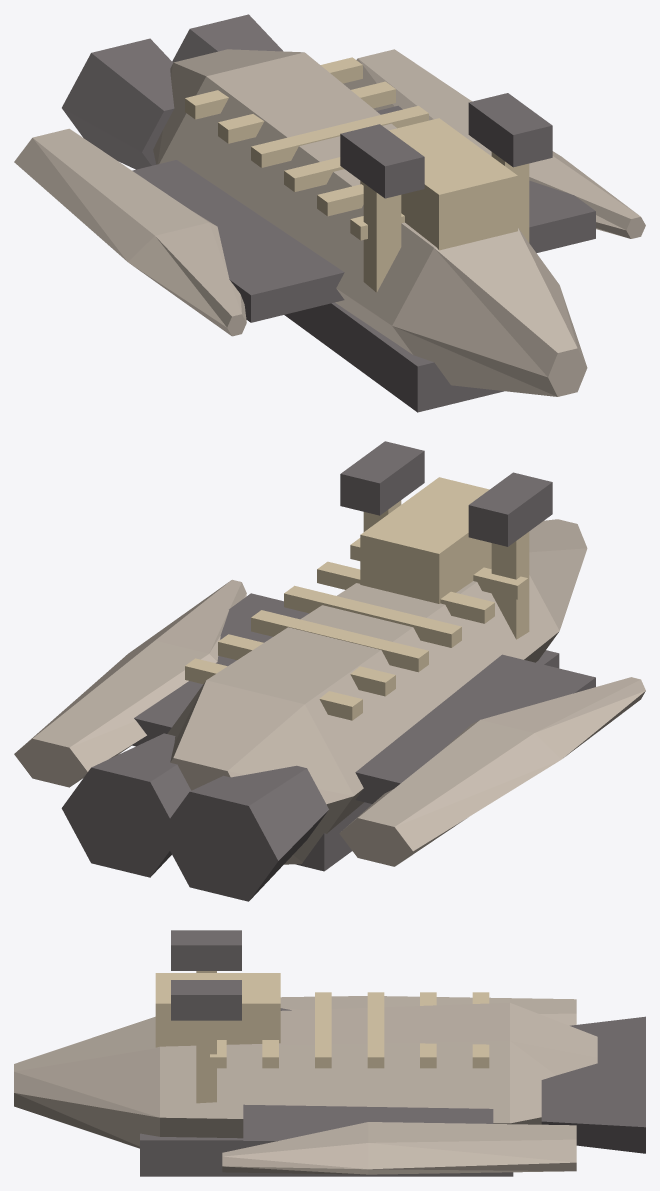
3 views of the same model, one above another, from view 1: azimuth 30°, elevation 25°; view 2: azimuth 150°, elevation 25°; view 3: azimuth 270°, elevation 25° (orthographic). The views are drawn at different scales.
Size of the model in its own units: 3.63 by 1.88 by 5.76.
